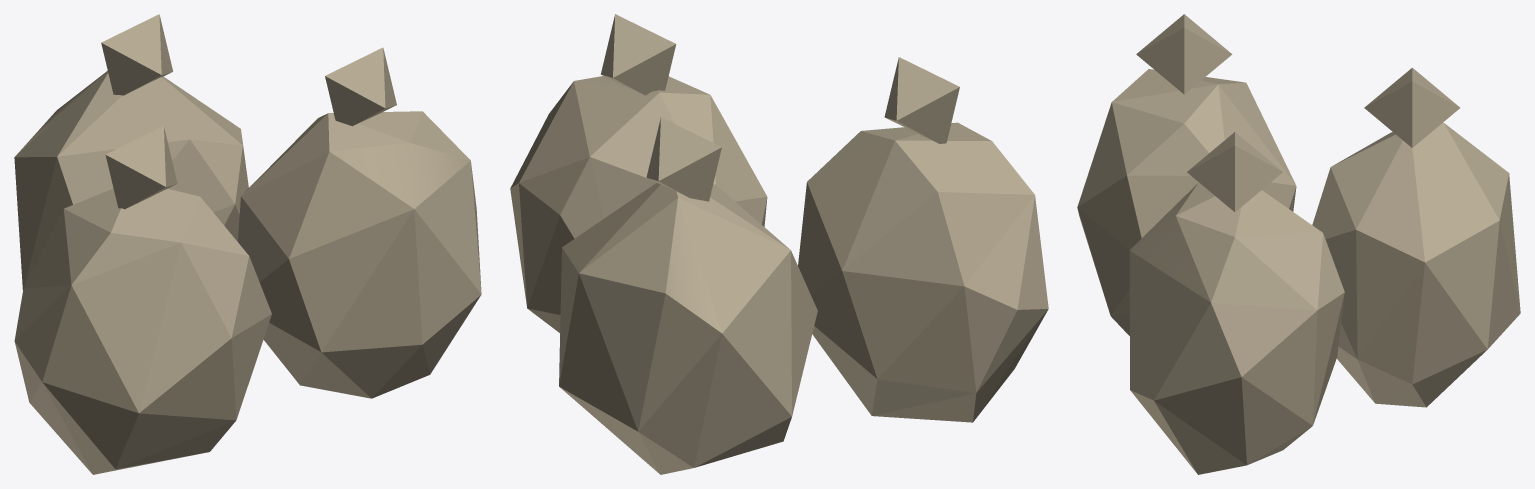
File: grain_sacks_lod1.glb
3 views of the same model, side by side, from view 1: azimuth 30°, elevation 25°; view 2: azimuth 150°, elevation 25°; view 3: azimuth 270°, elevation 25° (orthographic). The views are drawn at different scales.
Visible parts, largest first — view 1: m; view 2: m; view 3: m.
Boxes of the visible parts, box(x1,y1,x2,y2) form: m: box(14, 14, 481, 474); m: box(510, 14, 1048, 474); m: box(1077, 14, 1520, 474).
Size of the model in its own units: 1.06 by 0.7173 by 0.875.
